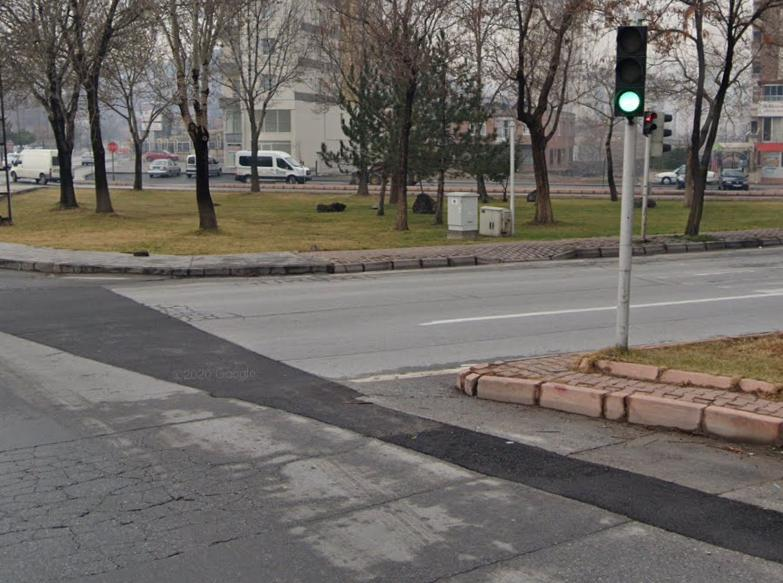greenlight: (613, 25, 647, 115)
